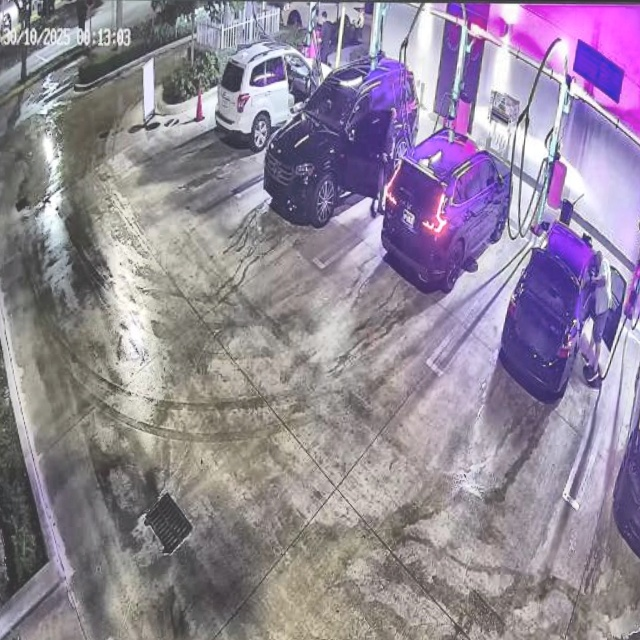Car: (267, 58, 422, 220), (379, 125, 518, 289)
